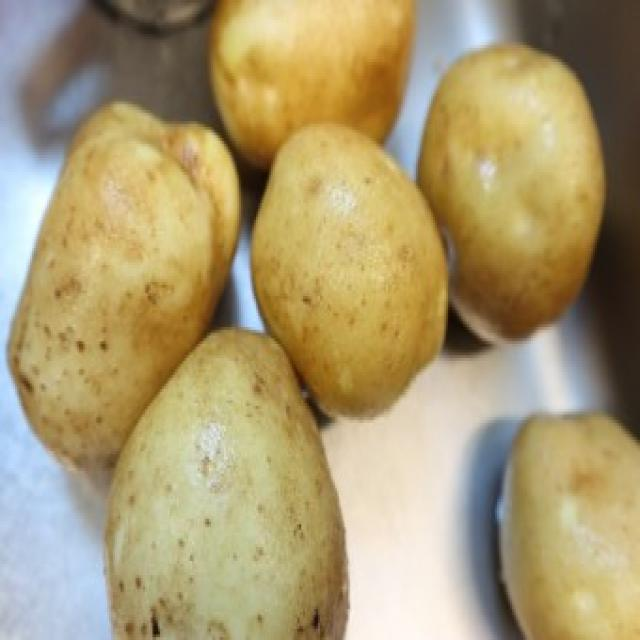potato: (9, 93, 242, 467), (105, 311, 359, 640), (247, 124, 447, 425), (419, 38, 611, 351), (205, 0, 420, 174), (493, 408, 640, 640)
